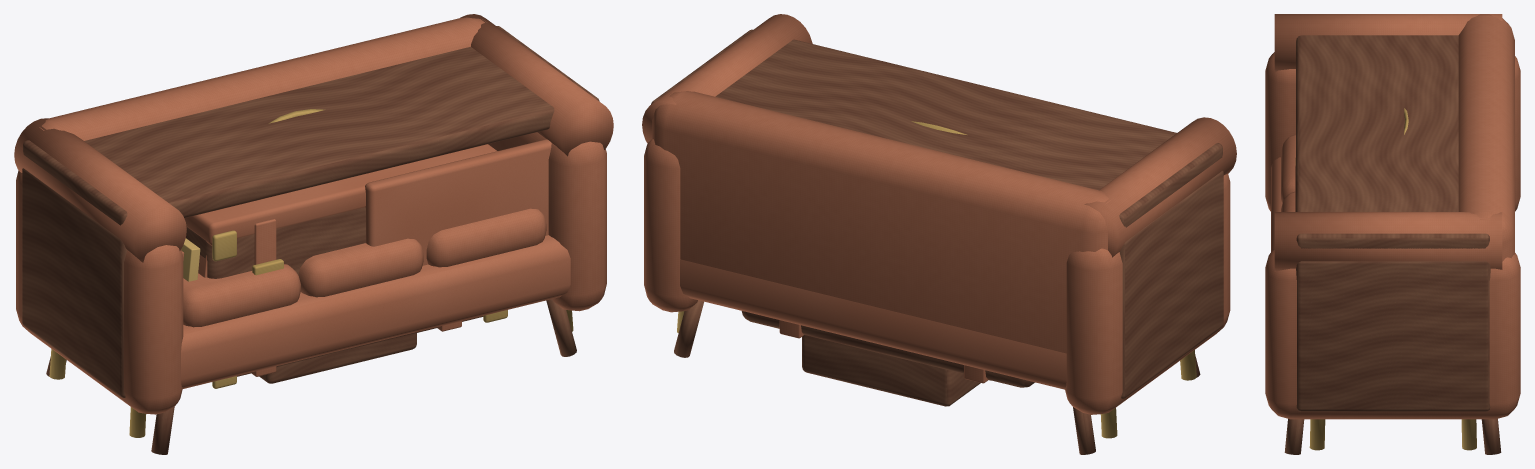
The model's file is tidy-life-retro.glb.
The picture shows the model from 3 angles, left to right: view 1: azimuth 30°, elevation 25°; view 2: azimuth 150°, elevation 25°; view 3: azimuth 270°, elevation 25°; orthographic projection. The views are drawn at different scales.
Parts seen in each view (by area): view 1: life_retro_chesterfield_mesh, life_retro_recordconsole_mesh, life_retro_trunktable_mesh, life_retro_gramophone_mesh; view 2: life_retro_chesterfield_mesh, life_retro_recordconsole_mesh, life_retro_gramophone_mesh, life_retro_trunktable_mesh; view 3: life_retro_recordconsole_mesh, life_retro_chesterfield_mesh.
Boxes of the visible parts, bbox=[...] form: life_retro_chesterfield_mesh: bbox=[14, 14, 613, 454]; life_retro_recordconsole_mesh: bbox=[22, 26, 599, 437]; life_retro_trunktable_mesh: bbox=[184, 144, 507, 388]; life_retro_gramophone_mesh: bbox=[259, 109, 416, 383]; life_retro_chesterfield_mesh: bbox=[642, 14, 1236, 454]; life_retro_recordconsole_mesh: bbox=[651, 29, 1223, 438]; life_retro_gramophone_mesh: bbox=[802, 121, 980, 406]; life_retro_trunktable_mesh: bbox=[741, 311, 1034, 387]; life_retro_recordconsole_mesh: bbox=[1295, 35, 1490, 450]; life_retro_chesterfield_mesh: bbox=[1265, 14, 1520, 454].
Bounding box in the file's own units: 0.62 × 0.32 × 0.3.
6 materials, 6 textured.
